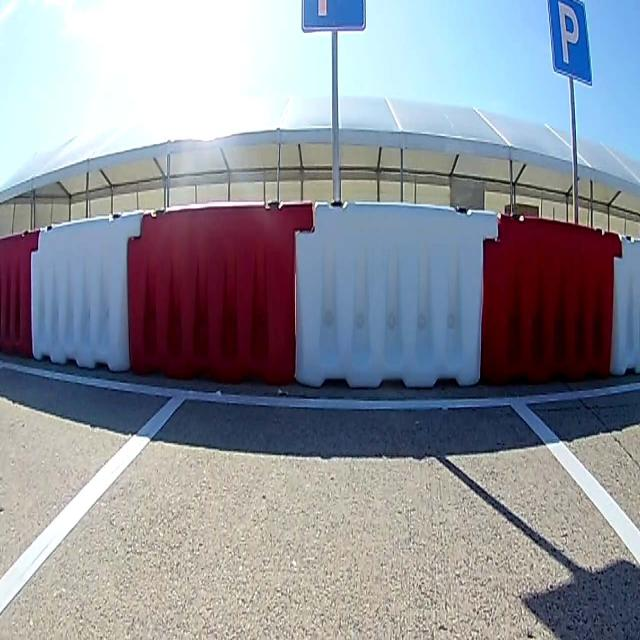park: (547, 1, 591, 83)
